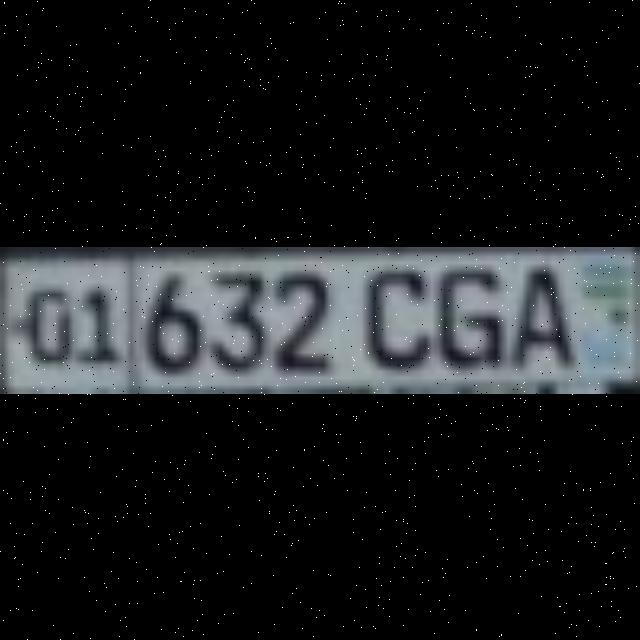0: (20, 285, 70, 355)
1: (70, 284, 116, 362)
2: (262, 265, 320, 367)
3: (198, 265, 256, 367)
6: (134, 265, 192, 367)
A: (506, 259, 570, 361)
C: (358, 265, 422, 361)
G: (429, 259, 499, 361)
